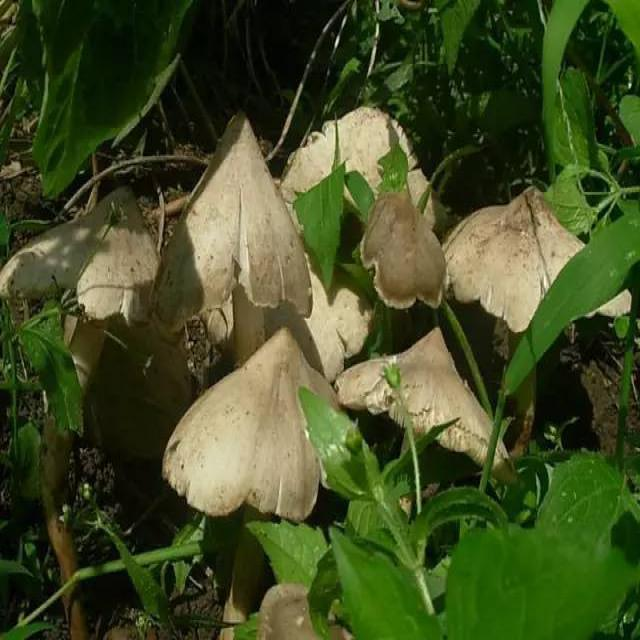Collybia albuminosa: (165, 331, 367, 517), (176, 115, 314, 337), (2, 183, 166, 360), (438, 191, 631, 331), (338, 329, 514, 475)
